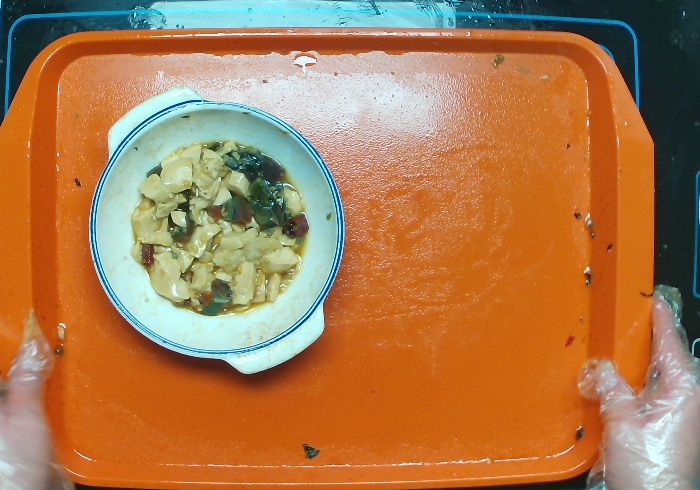HZYJPL-Lan_Bian_Dai_Er_Wan: (83, 83, 346, 375)
